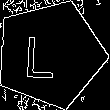L_N: (33, 28, 68, 80)
